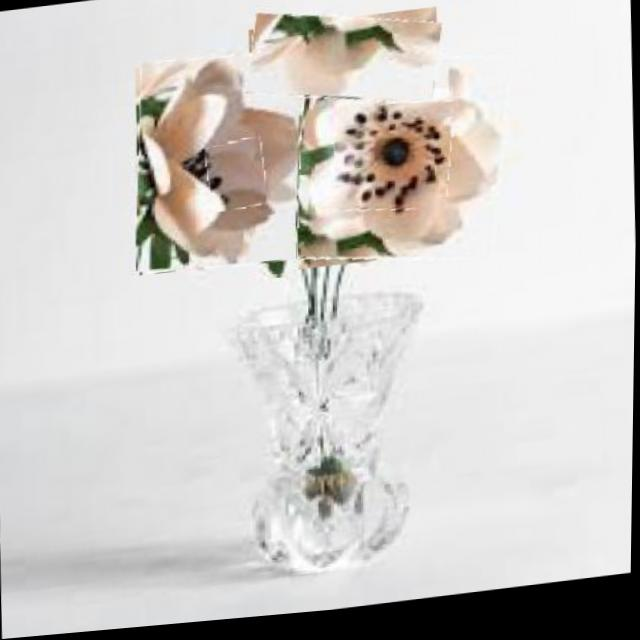Flower: (286, 48, 512, 284), (131, 51, 306, 283), (245, 6, 443, 122), (329, 101, 455, 225), (206, 141, 266, 218)
